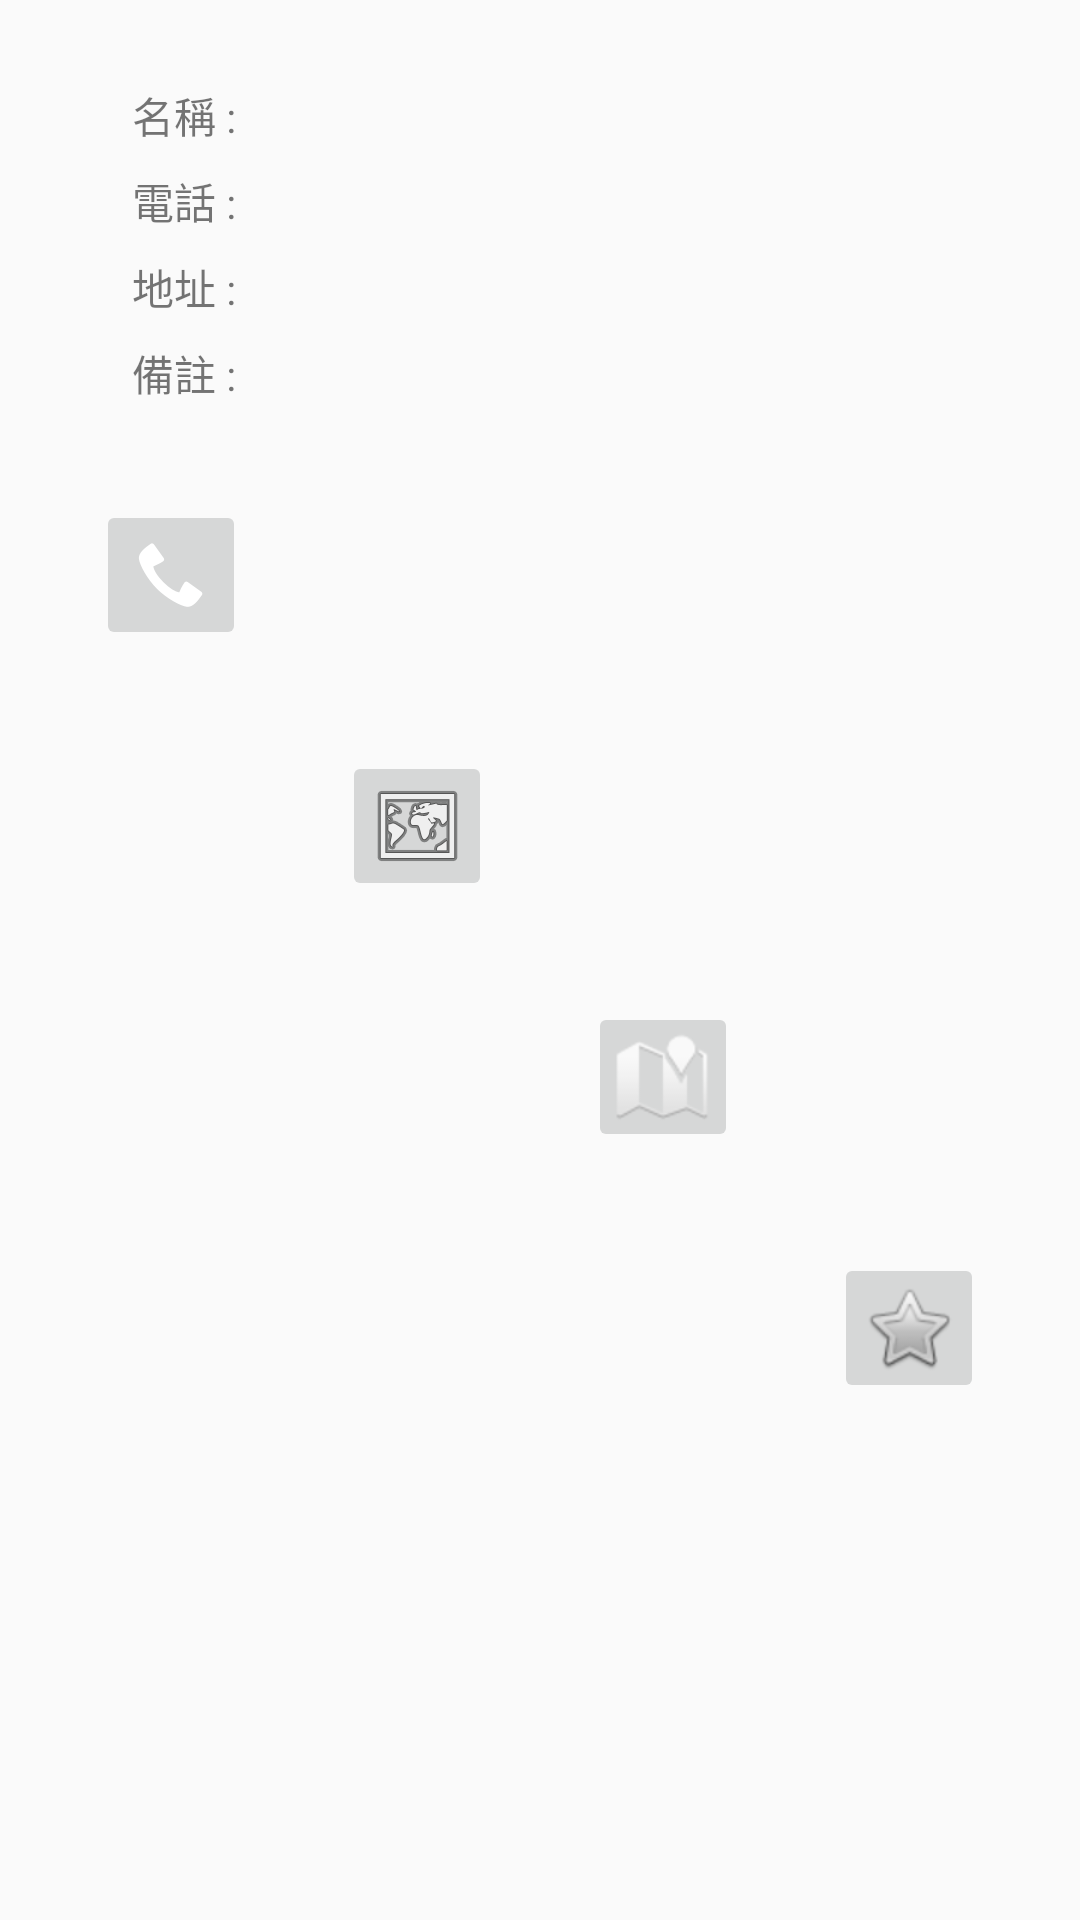

Locate icon controls on the screen. Image size 1080 × 1920, boxes as (x1, y1, x2, y2).
map: (600, 1020, 726, 1134)
mapmode: (354, 769, 480, 883)
phone call: (108, 518, 234, 632)
star off: (846, 1271, 972, 1385)
